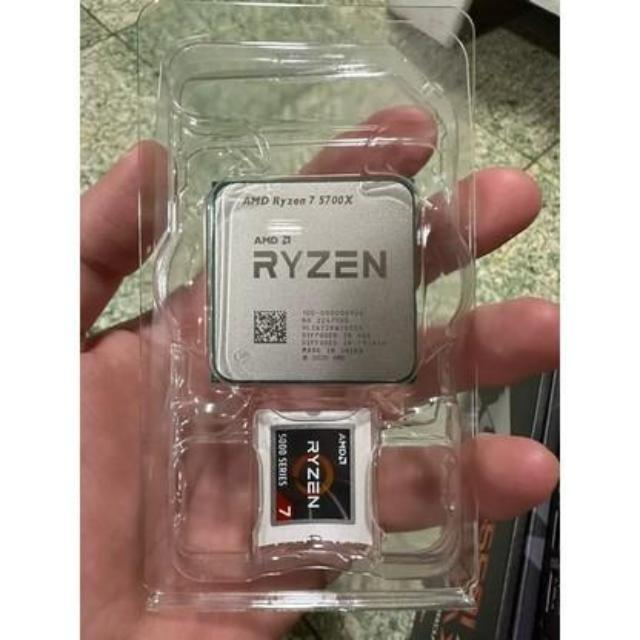CPU: (209, 174, 420, 386)
